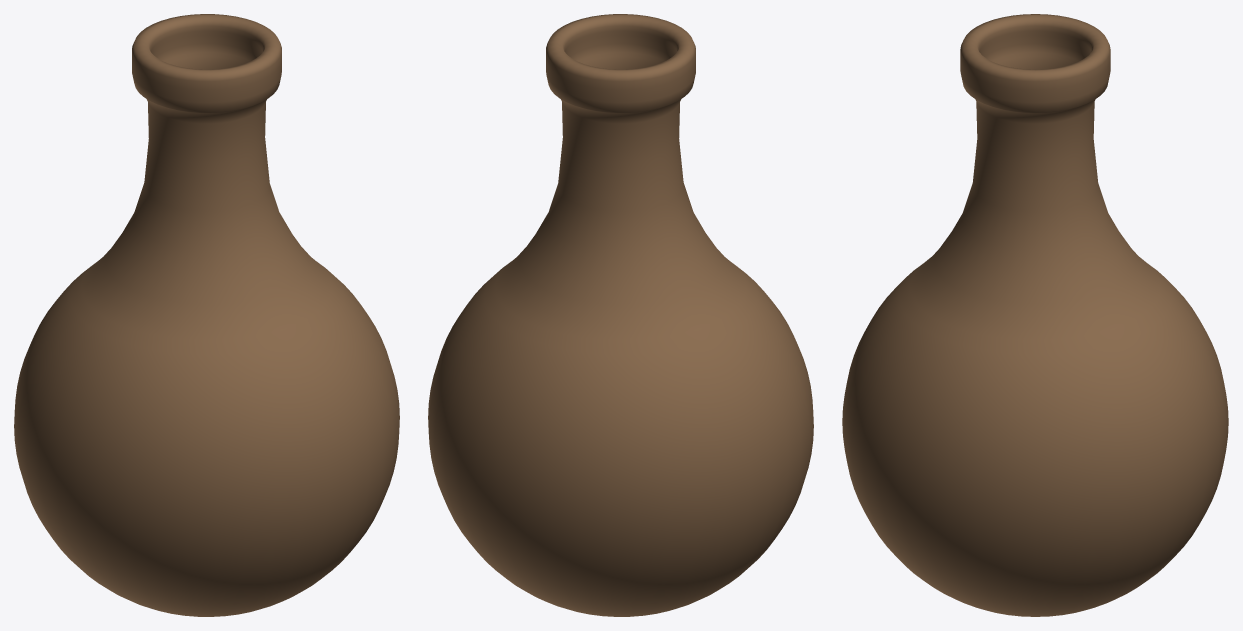
Rendered from GuciKecil.fbx.
3 renders of one model, left to right at view 1: azimuth 30°, elevation 25°; view 2: azimuth 150°, elevation 25°; view 3: azimuth 270°, elevation 25°, orthographic.
Visible parts, largest first — view 1: pSphere1; view 2: pSphere1; view 3: pSphere1.
Boxes of the visible parts, x1,y1,x2,y2 form: pSphere1: (14, 14, 399, 616); pSphere1: (428, 14, 813, 616); pSphere1: (842, 14, 1228, 616).
Bounding box in the file's own units: 1.97 × 3.13 × 1.97.
